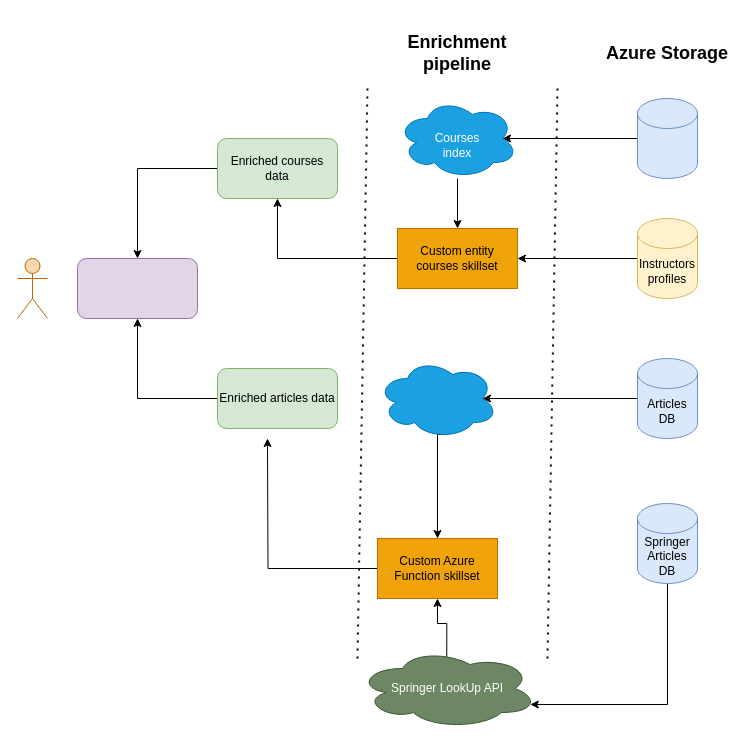
This 755x746 diagram has some shape labels left out. The box of each missing label's shape, as (x1, y1, x2, y2) in pixels:
Actor: (16, 258, 48, 318)
Articles Index: (376, 358, 498, 438)
Courses DB: (636, 98, 698, 178)
Static Web App (UI): (76, 258, 198, 318)
